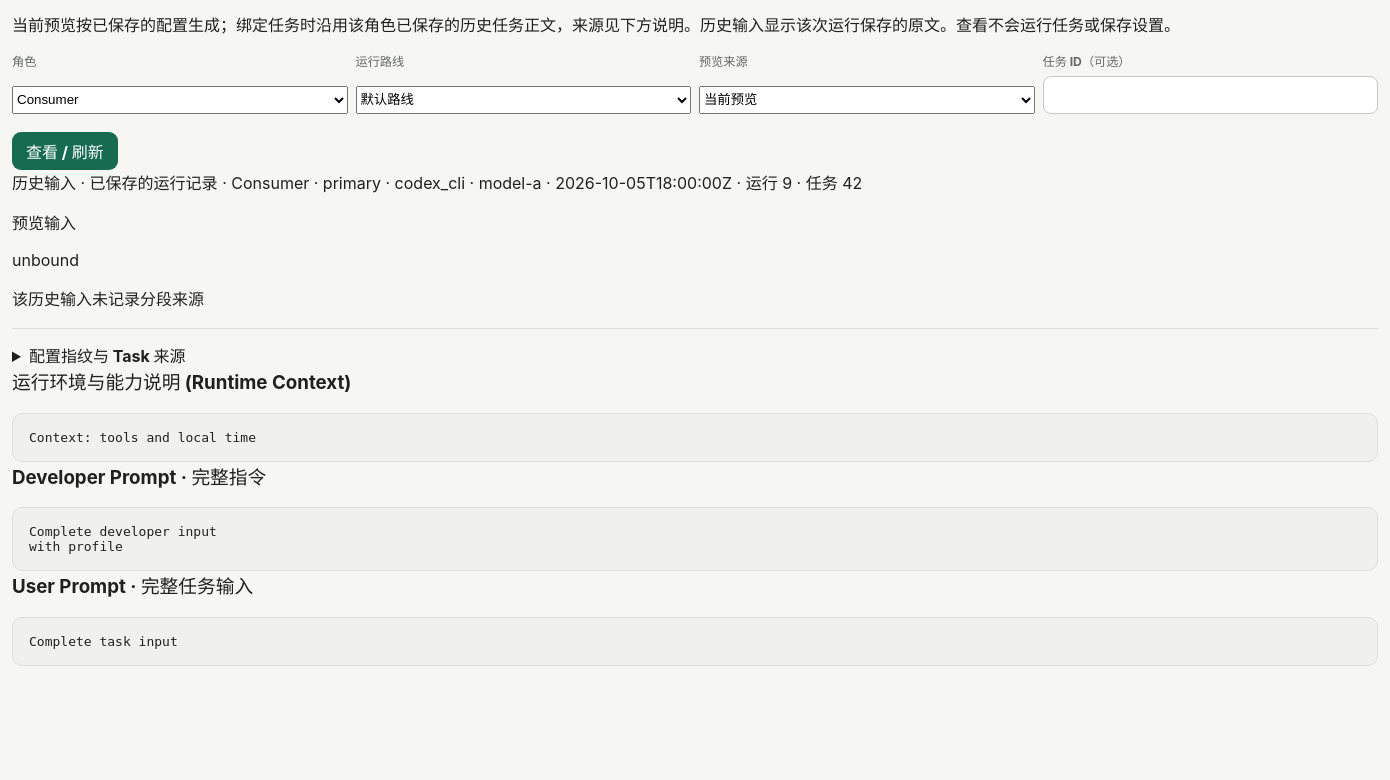
Test: RuntimePromptPreview › shows absent old fingerprint metadata as unrecorded rather than current hashes
The width and height of the screenshot is (1390, 780).
Expected: the text "Complete task input" is shown, [12,617,1378,666]
Click the heading "配置指纹与 Task 来源". click: (107, 356)
box: [29,346,186,366]
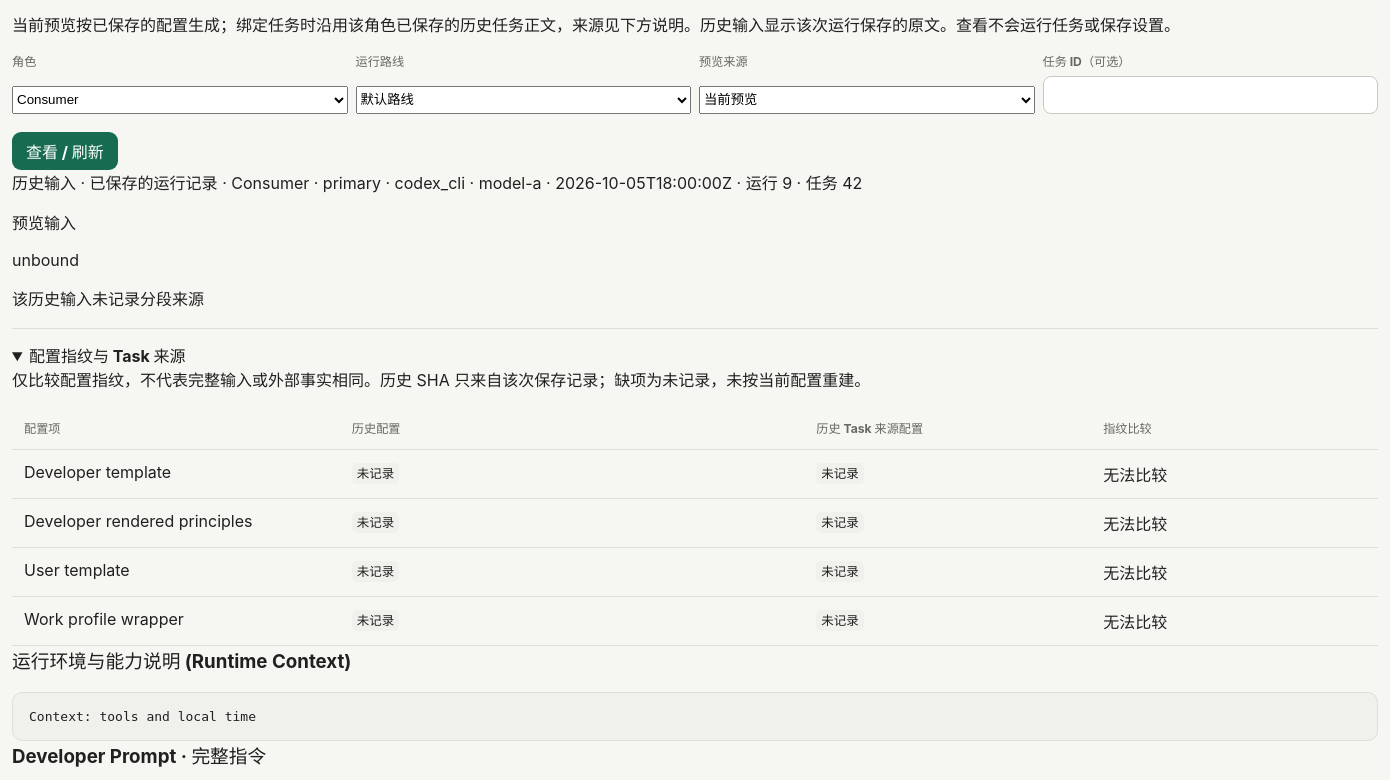
Now the column heading "历史配置" is shown, box [340,407,804,450]
Now the text "未记录" is shown 8 times
Now the text "无法比较" is shown 4 times, box [1091,450,1378,498]; [1091,498,1378,548]; [1091,548,1378,596]; [1091,596,1378,646]
